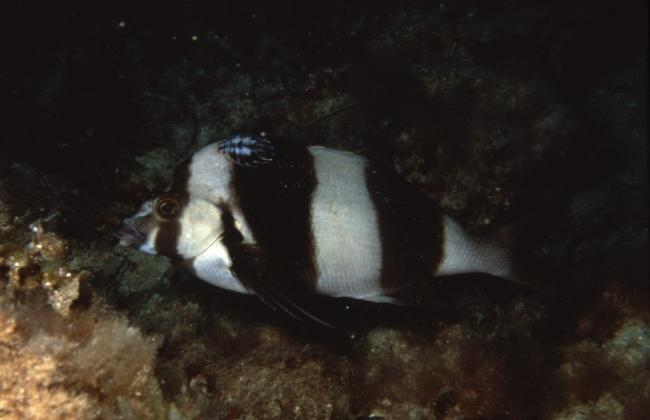fish: (120, 134, 540, 332)
